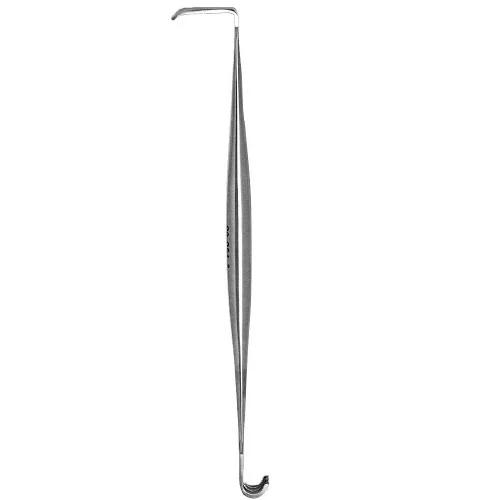Senn Retractor: (168, 2, 285, 500)
